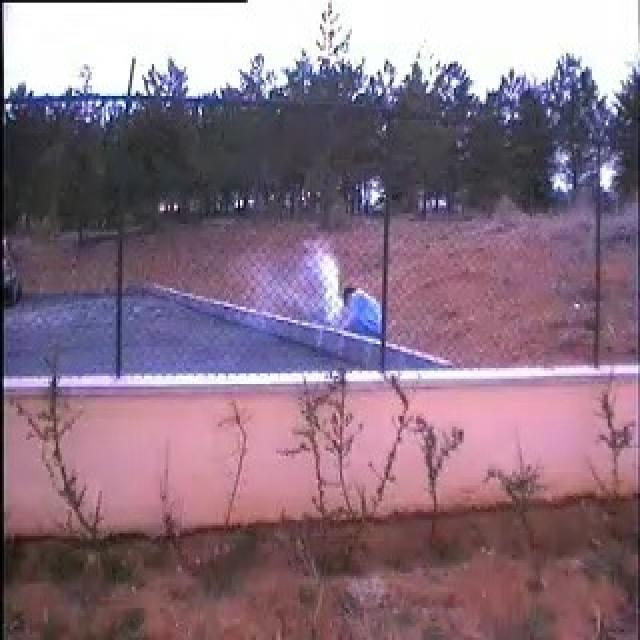smoke: (268, 244, 342, 318)
